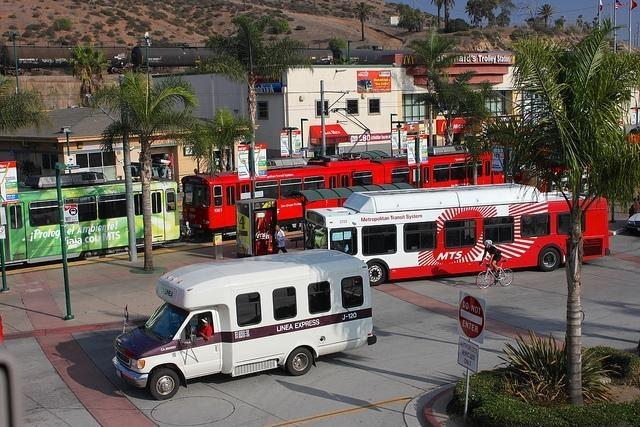bicycle: (476, 260, 514, 290)
bus: (108, 250, 376, 402), (306, 182, 611, 285)
car: (626, 212, 640, 237)
